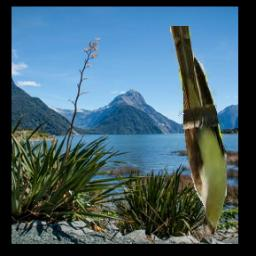Cuckoo: (170, 27, 227, 237)
